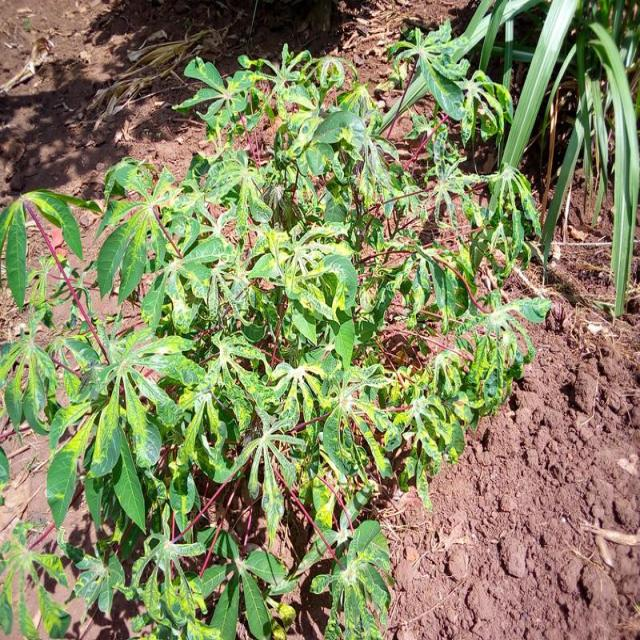cassava leaf: (1, 36, 554, 638)
